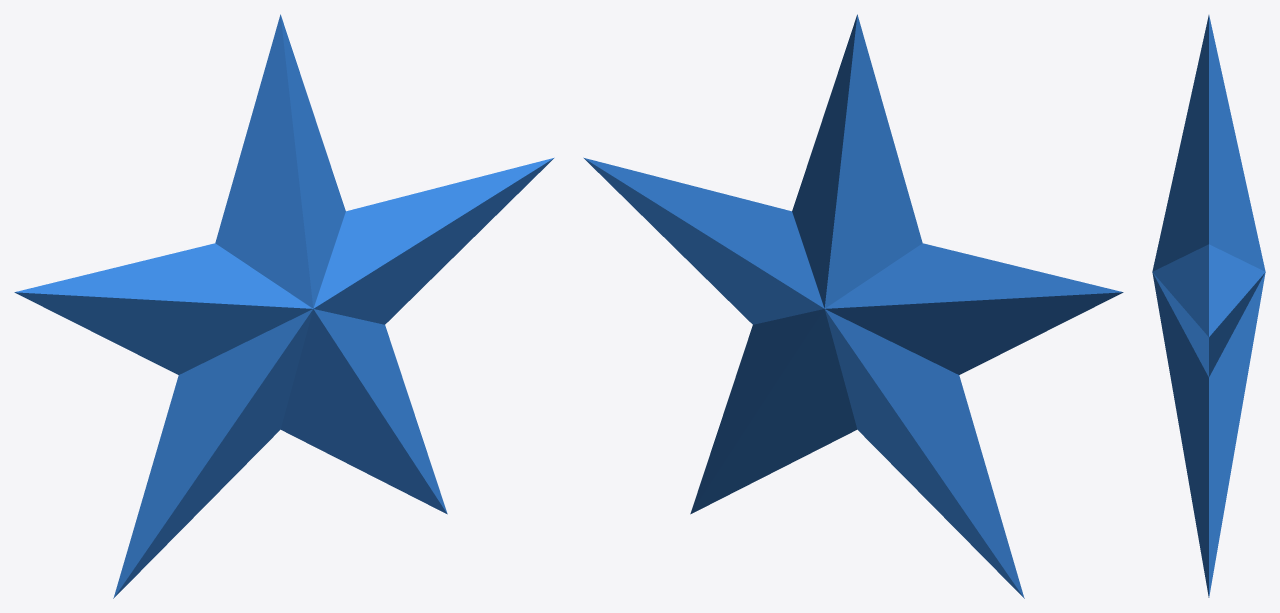
The model's file is star.FBX.
The picture shows the model from 3 angles, left to right: view 1: azimuth 30°, elevation 25°; view 2: azimuth 150°, elevation 25°; view 3: azimuth 270°, elevation 25°; orthographic projection. The views are drawn at different scales.
Parts seen in each view (by area): view 1: VIFS001; view 2: VIFS001; view 3: VIFS001.
Part boxes in pixels (x1=…): VIFS001: x1=14, y1=14, x2=554, y2=598; VIFS001: x1=583, y1=14, x2=1123, y2=598; VIFS001: x1=1152, y1=15, x2=1265, y2=597.
Size of the model in its own units: 0.414 by 0.398 by 0.08.
